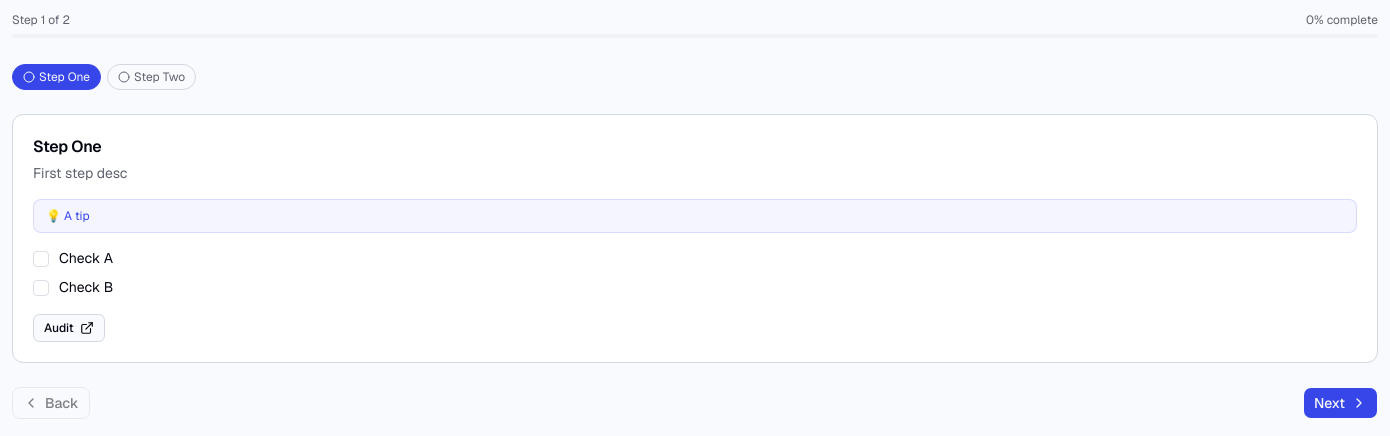
Test: ApplicationStepper › updates progress and persists when a check is toggled
What coordinates should you click on to do the following:
click the checkbox next to "Check A"
I would click on:
 (41, 259)
Its box is [33,251,49,267].
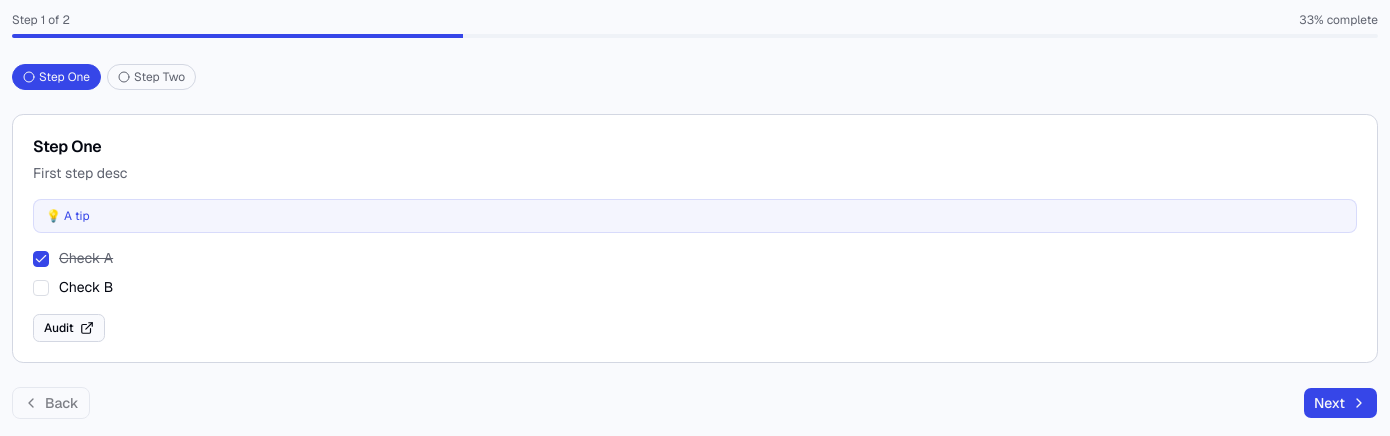
Expected: the text "33% complete" is shown, [1299,12,1378,28]
